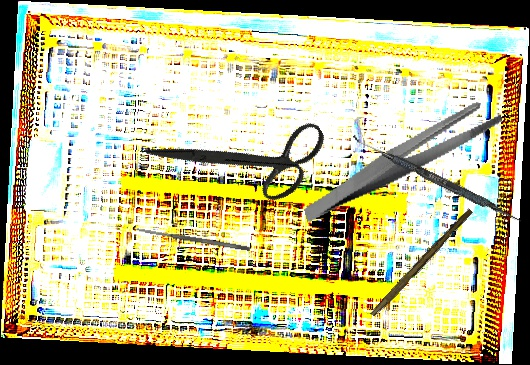Dressing Forceps: (288, 96, 516, 224)
Iris Scissors: (144, 68, 341, 247)
Scalpel Handle: (370, 206, 474, 320)
Spatula Surgical: (349, 134, 525, 225), (135, 225, 251, 253)
